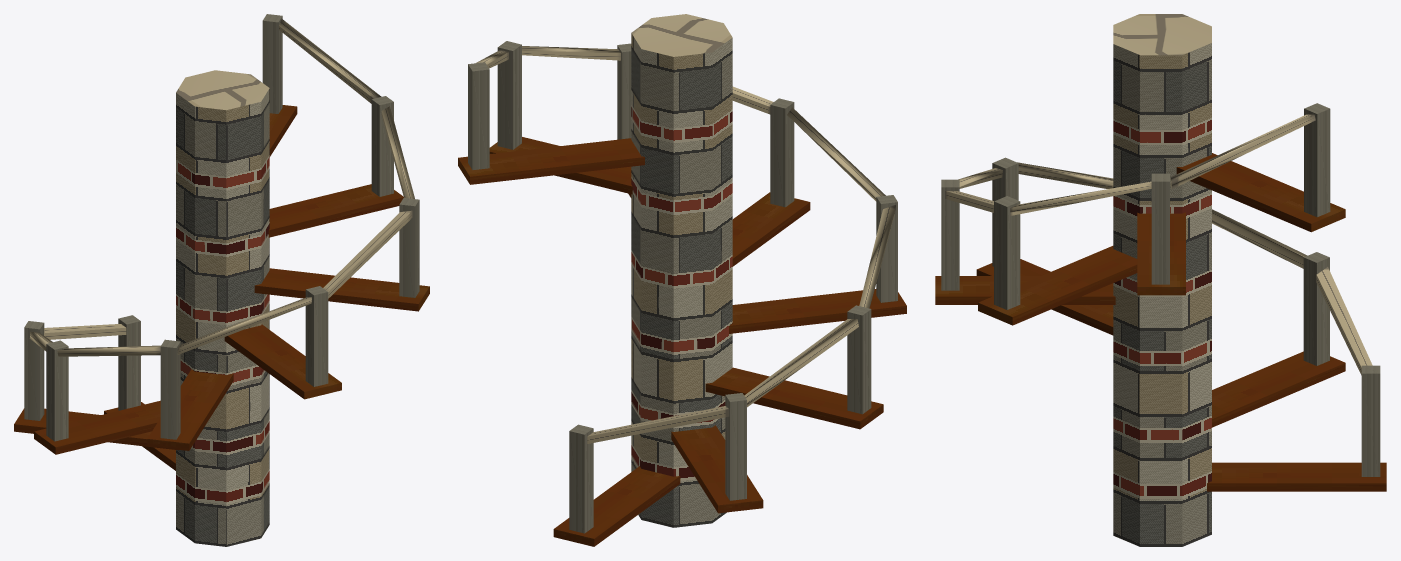
File: Byzantine_WIPStair1.glb
3 renders of one model, left to right at view 1: azimuth 30°, elevation 25°; view 2: azimuth 150°, elevation 25°; view 3: azimuth 270°, elevation 25°, orthographic. The views are drawn at different scales.
Visible parts, largest first — view 1: Cube; view 2: Cube; view 3: Cube.
Part boxes in pixels (x1,y1,x2,y2): Cube: [14, 14, 429, 546]; Cube: [458, 14, 906, 546]; Cube: [935, 14, 1386, 546].
Size of the model in its own units: 1.58 by 1.9 by 1.58.
Materials: 4 (4 with a texture image).
